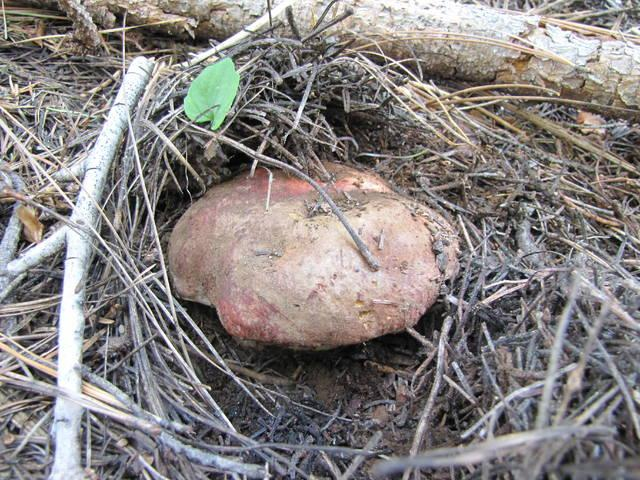Edible Mushroom: (165, 158, 461, 352)
